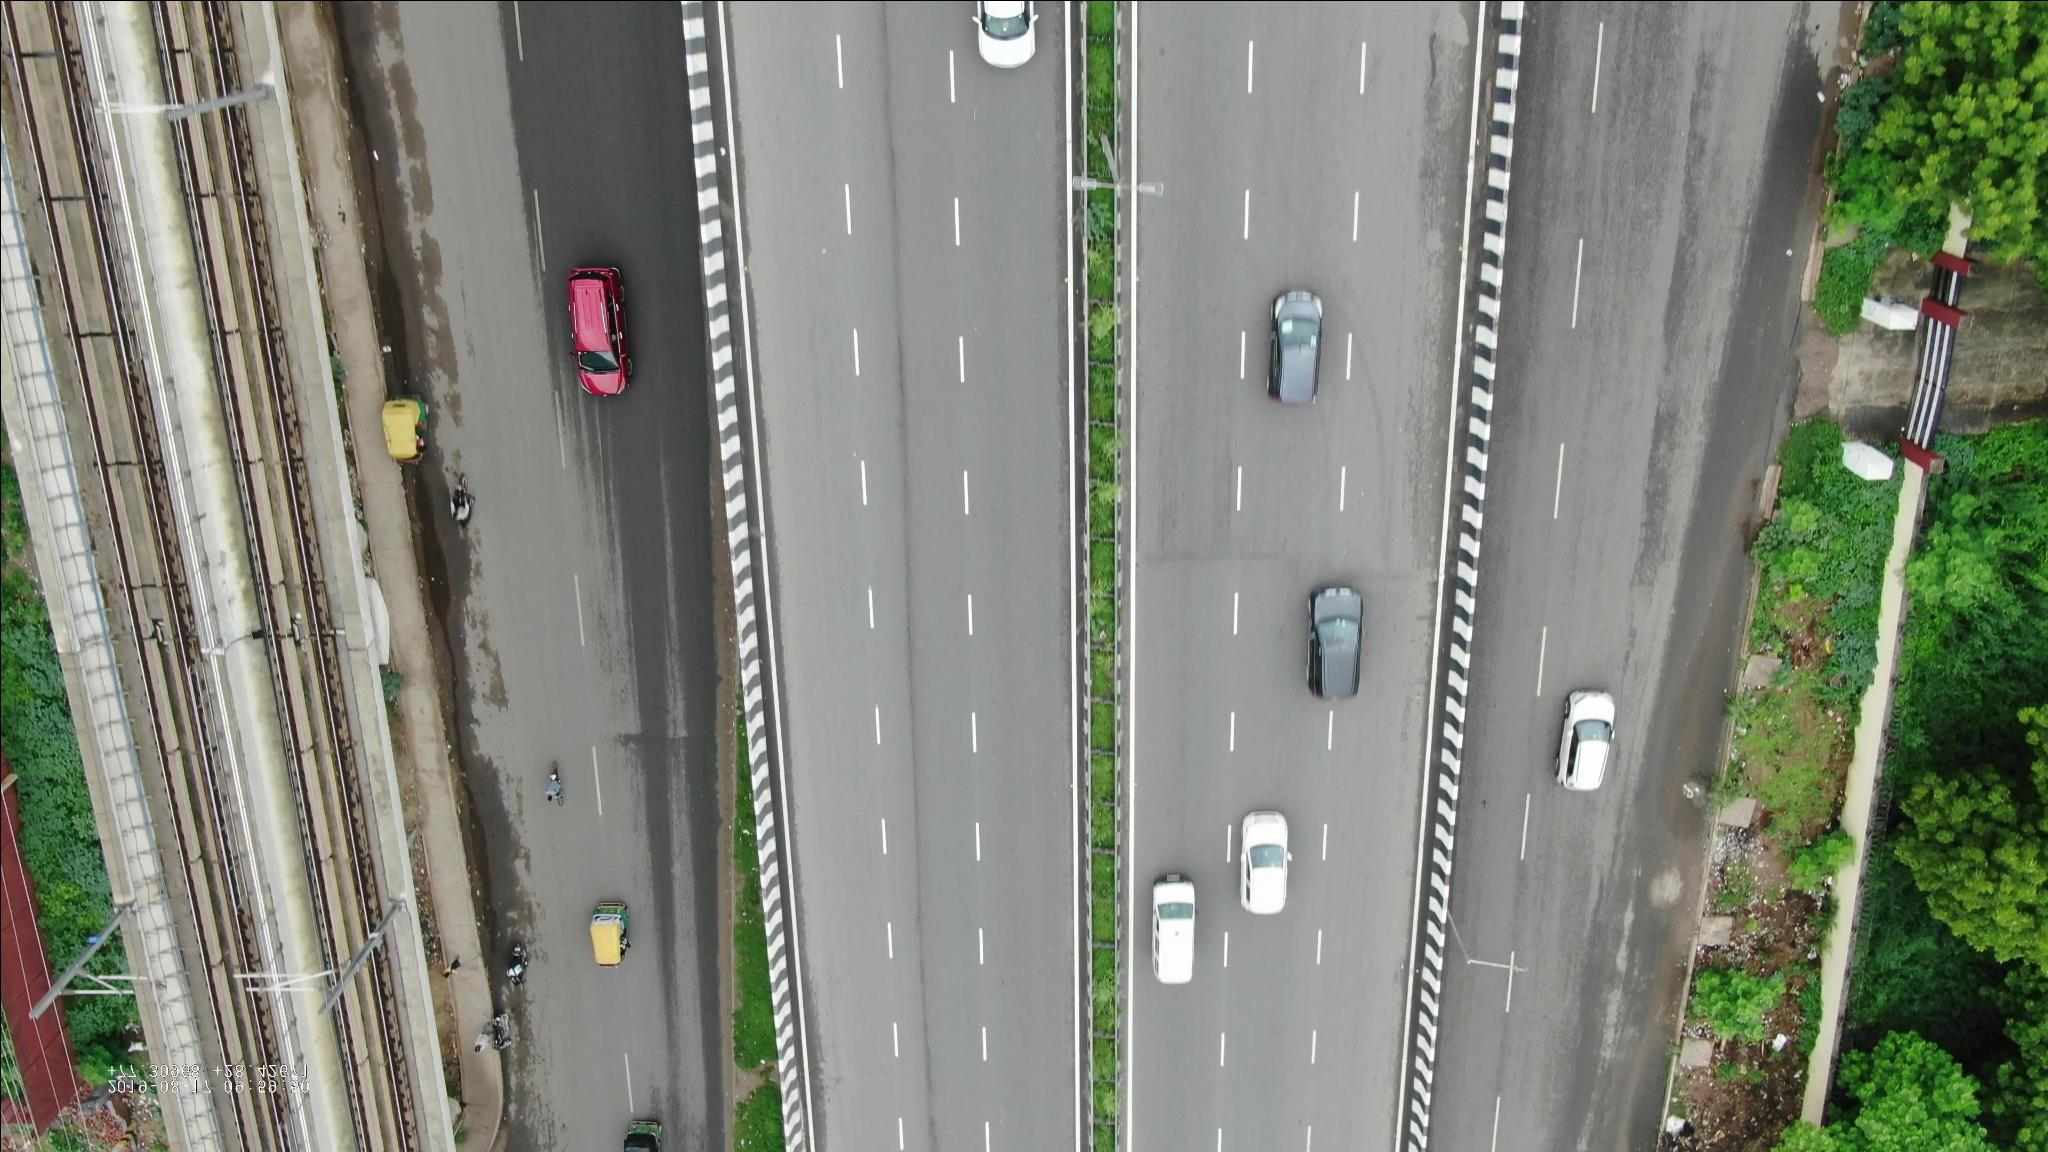Ravelling: (886, 307, 919, 830)
Waterlogging: (1654, 459, 1769, 828), (373, 269, 416, 360), (419, 546, 473, 606), (461, 840, 499, 895), (439, 670, 473, 722), (450, 748, 484, 799)
